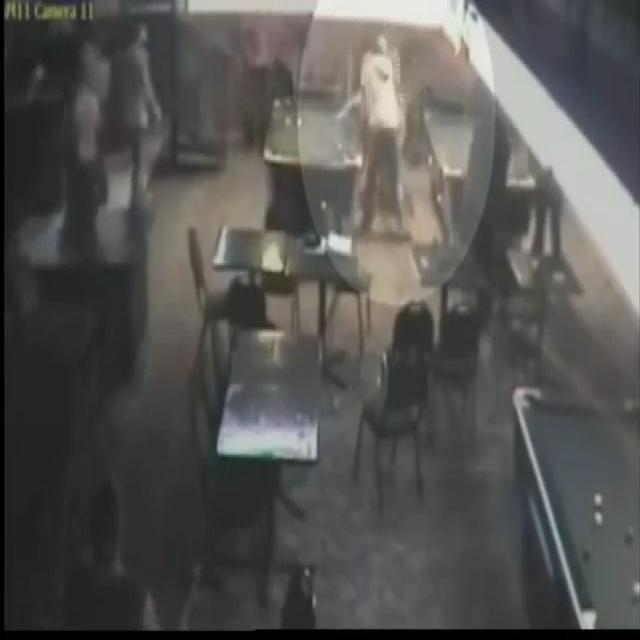fight: (350, 34, 414, 248)
